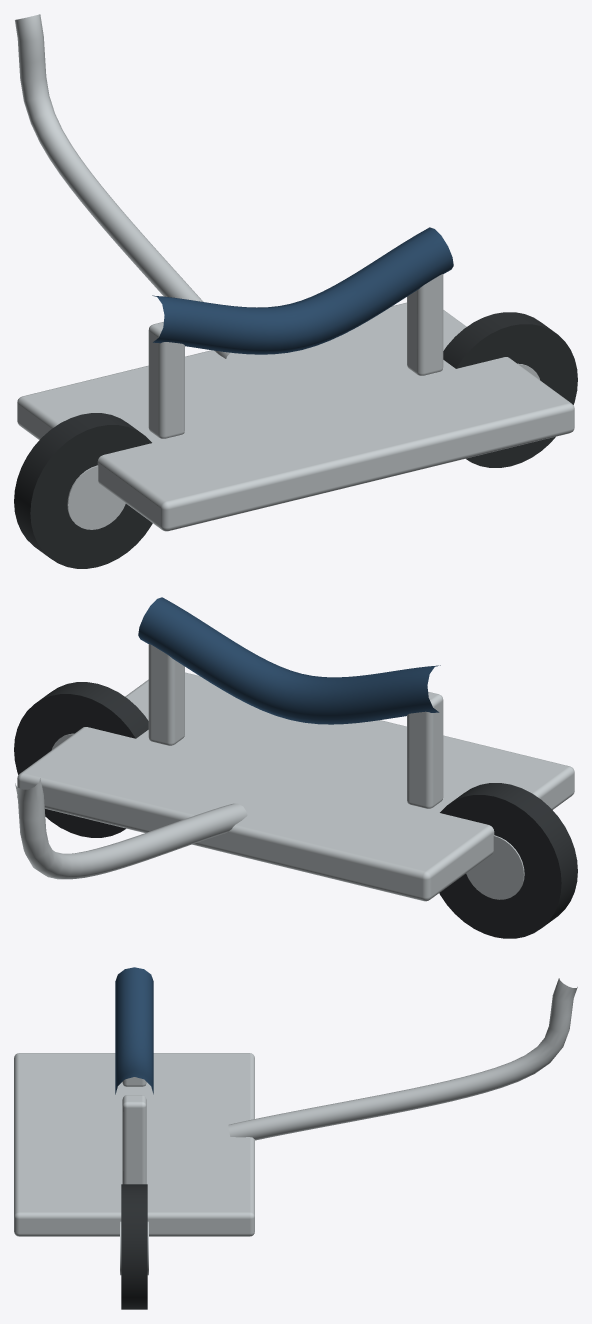
Rendered from rowing-boathouse-and-regatta-course-boat-transport-dol-5b5c6de5__32141.glb.
3 renders of one model, top to bottom at view 1: azimuth 30°, elevation 25°; view 2: azimuth 150°, elevation 25°; view 3: azimuth 270°, elevation 25°, orthographic. The views are drawn at different scales.
Visible parts, largest first — view 1: boat-transport-dolly; view 2: boat-transport-dolly; view 3: boat-transport-dolly.
Boxes of the visible parts, x1,y1,x2,y2 form: boat-transport-dolly: (14, 14, 577, 568); boat-transport-dolly: (14, 597, 577, 938); boat-transport-dolly: (14, 967, 577, 1309).
Bounding box in the file's own units: 1.06 × 0.5598 × 1.17.
